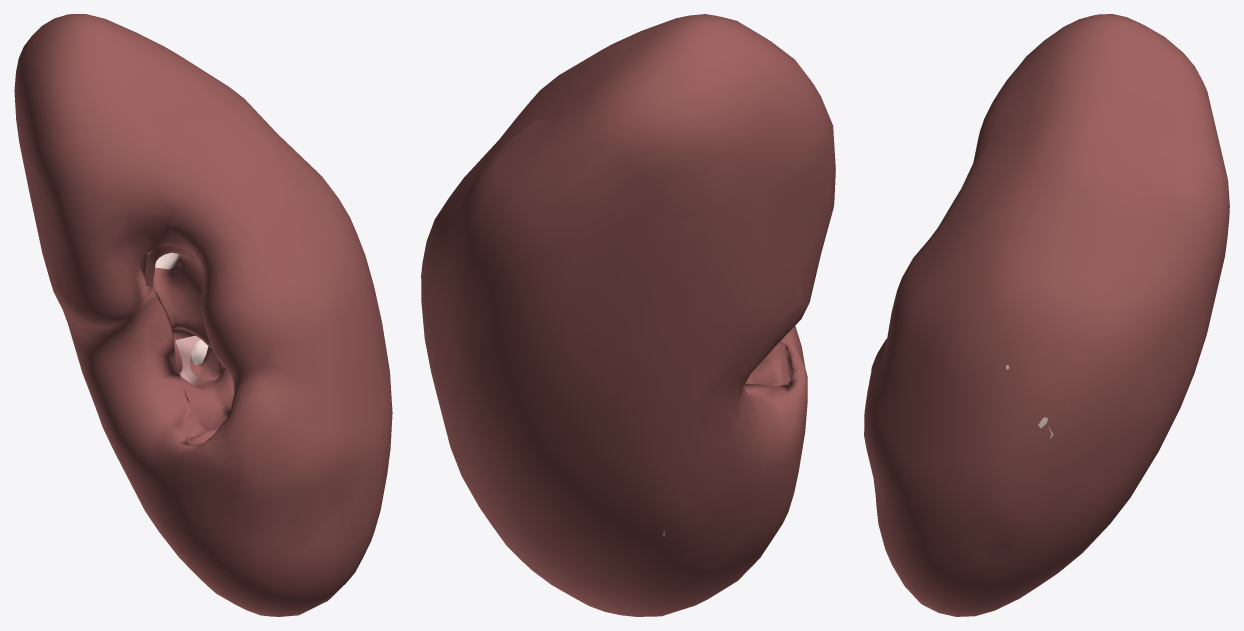
Rendered from vh_f_kidney_l-40.glb.
3 views of the same model, side by side, from view 1: azimuth 30°, elevation 25°; view 2: azimuth 150°, elevation 25°; view 3: azimuth 270°, elevation 25° (orthographic). The views are drawn at different scales.
Parts seen in each view (by area): view 1: VH_F_kidney_capsule_L, VH_F_hilum_of_kidney_L, VH_F_renal_pyramid_L_g, VH_F_renal_column_L; view 2: VH_F_kidney_capsule_L, VH_F_hilum_of_kidney_L; view 3: VH_F_kidney_capsule_L.
Boxes of the visible parts, x1,y1,x2,y2 form: VH_F_kidney_capsule_L: (14, 14, 392, 616); VH_F_hilum_of_kidney_L: (145, 245, 234, 444); VH_F_renal_pyramid_L_g: (175, 336, 201, 385); VH_F_renal_column_L: (155, 252, 208, 365); VH_F_kidney_capsule_L: (421, 14, 835, 616); VH_F_hilum_of_kidney_L: (745, 342, 790, 385); VH_F_kidney_capsule_L: (864, 14, 1229, 616).
Bounding box in the file's own units: 0.0731 × 0.125 × 0.0776.
